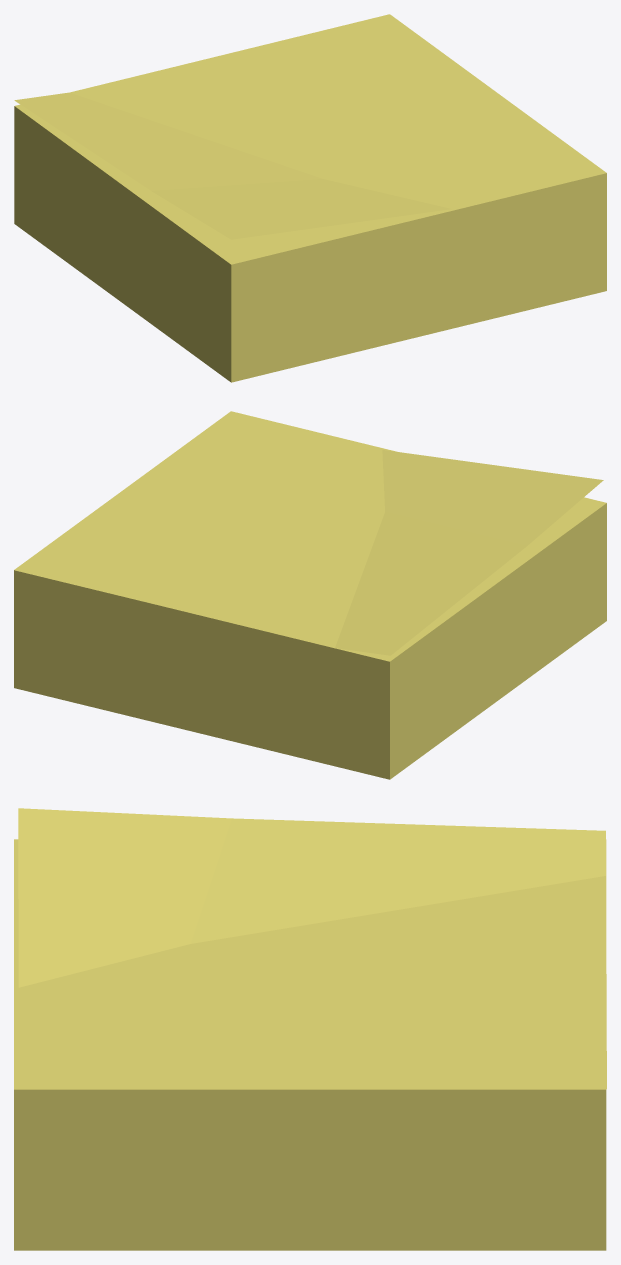
The model's file is PostItNotesStackBend.fbx.
3 views of the same model, one above another, from view 1: azimuth 30°, elevation 25°; view 2: azimuth 150°, elevation 25°; view 3: azimuth 270°, elevation 25° (orthographic). The views are drawn at different scales.
Visible parts, largest first — view 1: Cube, Plane; view 2: Cube, Plane; view 3: Plane, Cube.
Boxes of the visible parts, <box> form: Cube: <box>14,14,606,382</box>; Plane: <box>14,14,604,239</box>; Cube: <box>14,411,606,779</box>; Plane: <box>15,411,603,655</box>; Plane: <box>15,808,606,1089</box>; Cube: <box>14,839,606,1250</box>.
Size of the model in its own units: 10.01 by 3.6 by 10.01.
